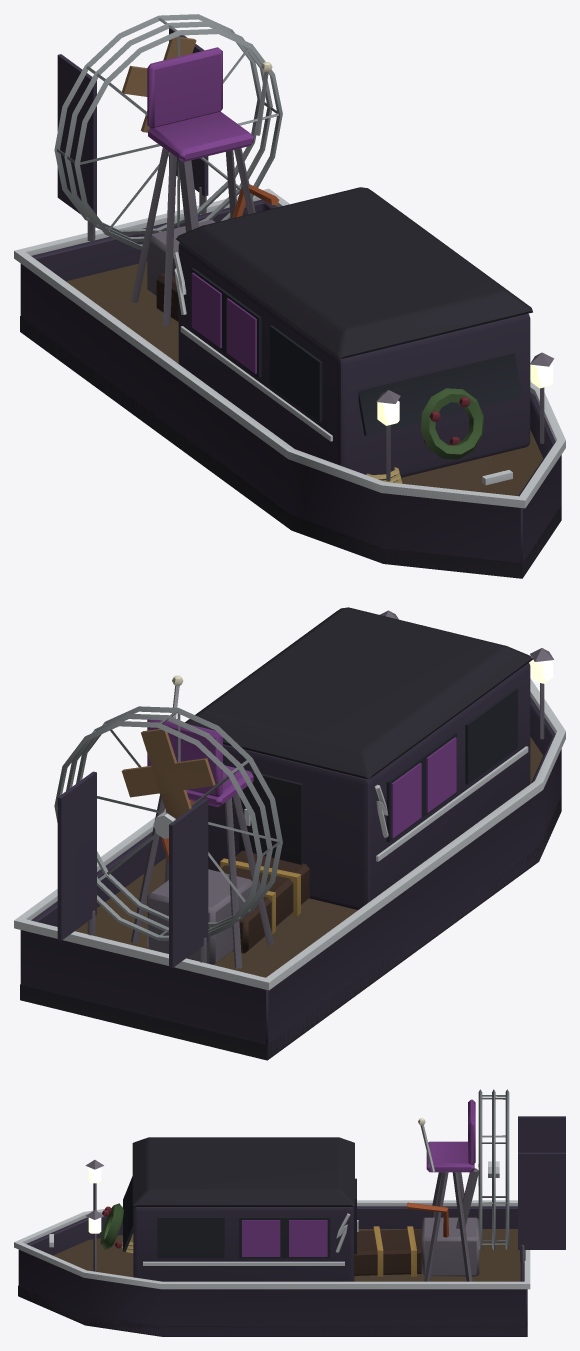
Rendered from env_hearseBoat.glb.
The picture shows the model from 3 angles, top to bottom: view 1: azimuth 30°, elevation 25°; view 2: azimuth 150°, elevation 25°; view 3: azimuth 270°, elevation 25°; orthographic projection. The views are drawn at different scales.
Visible parts, largest first — view 1: env_hearseBoat, glow; view 2: env_hearseBoat; view 3: env_hearseBoat, glow.
Part boxes in pixels (x1,y1,x2,y2): env_hearseBoat: [14, 14, 565, 578]; glow: [377, 363, 553, 425]; env_hearseBoat: [14, 607, 565, 1060]; env_hearseBoat: [14, 1089, 565, 1336]; glow: [88, 1167, 101, 1233].
Bounding box in the file's own units: 2.06 × 2.29 × 5.74.
